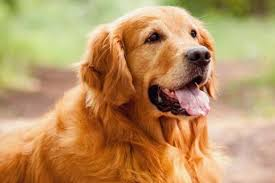Bulldog: (14, 4, 227, 183)
